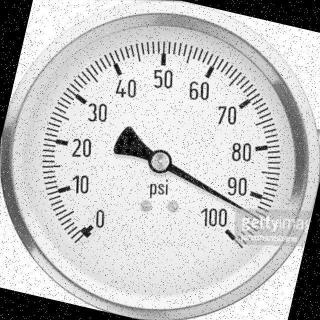gauge: (0, 0, 320, 320), (65, 211, 106, 253), (208, 214, 248, 256), (145, 145, 175, 176), (248, 209, 266, 225)
